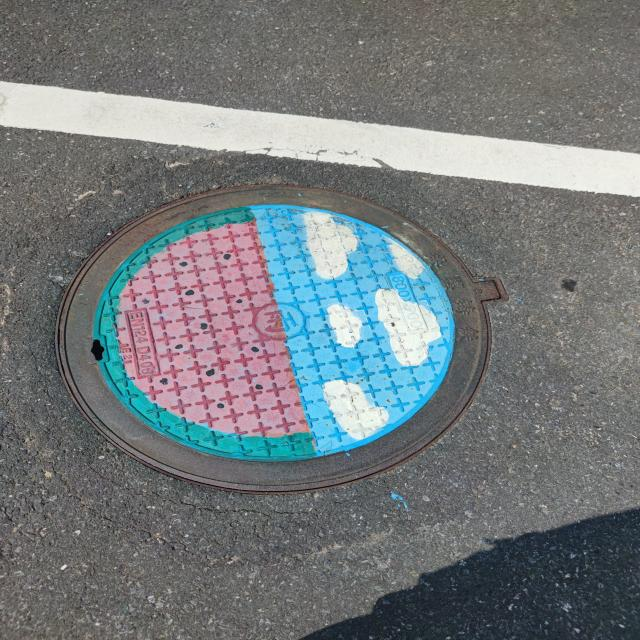Good: (44, 180, 514, 507)
